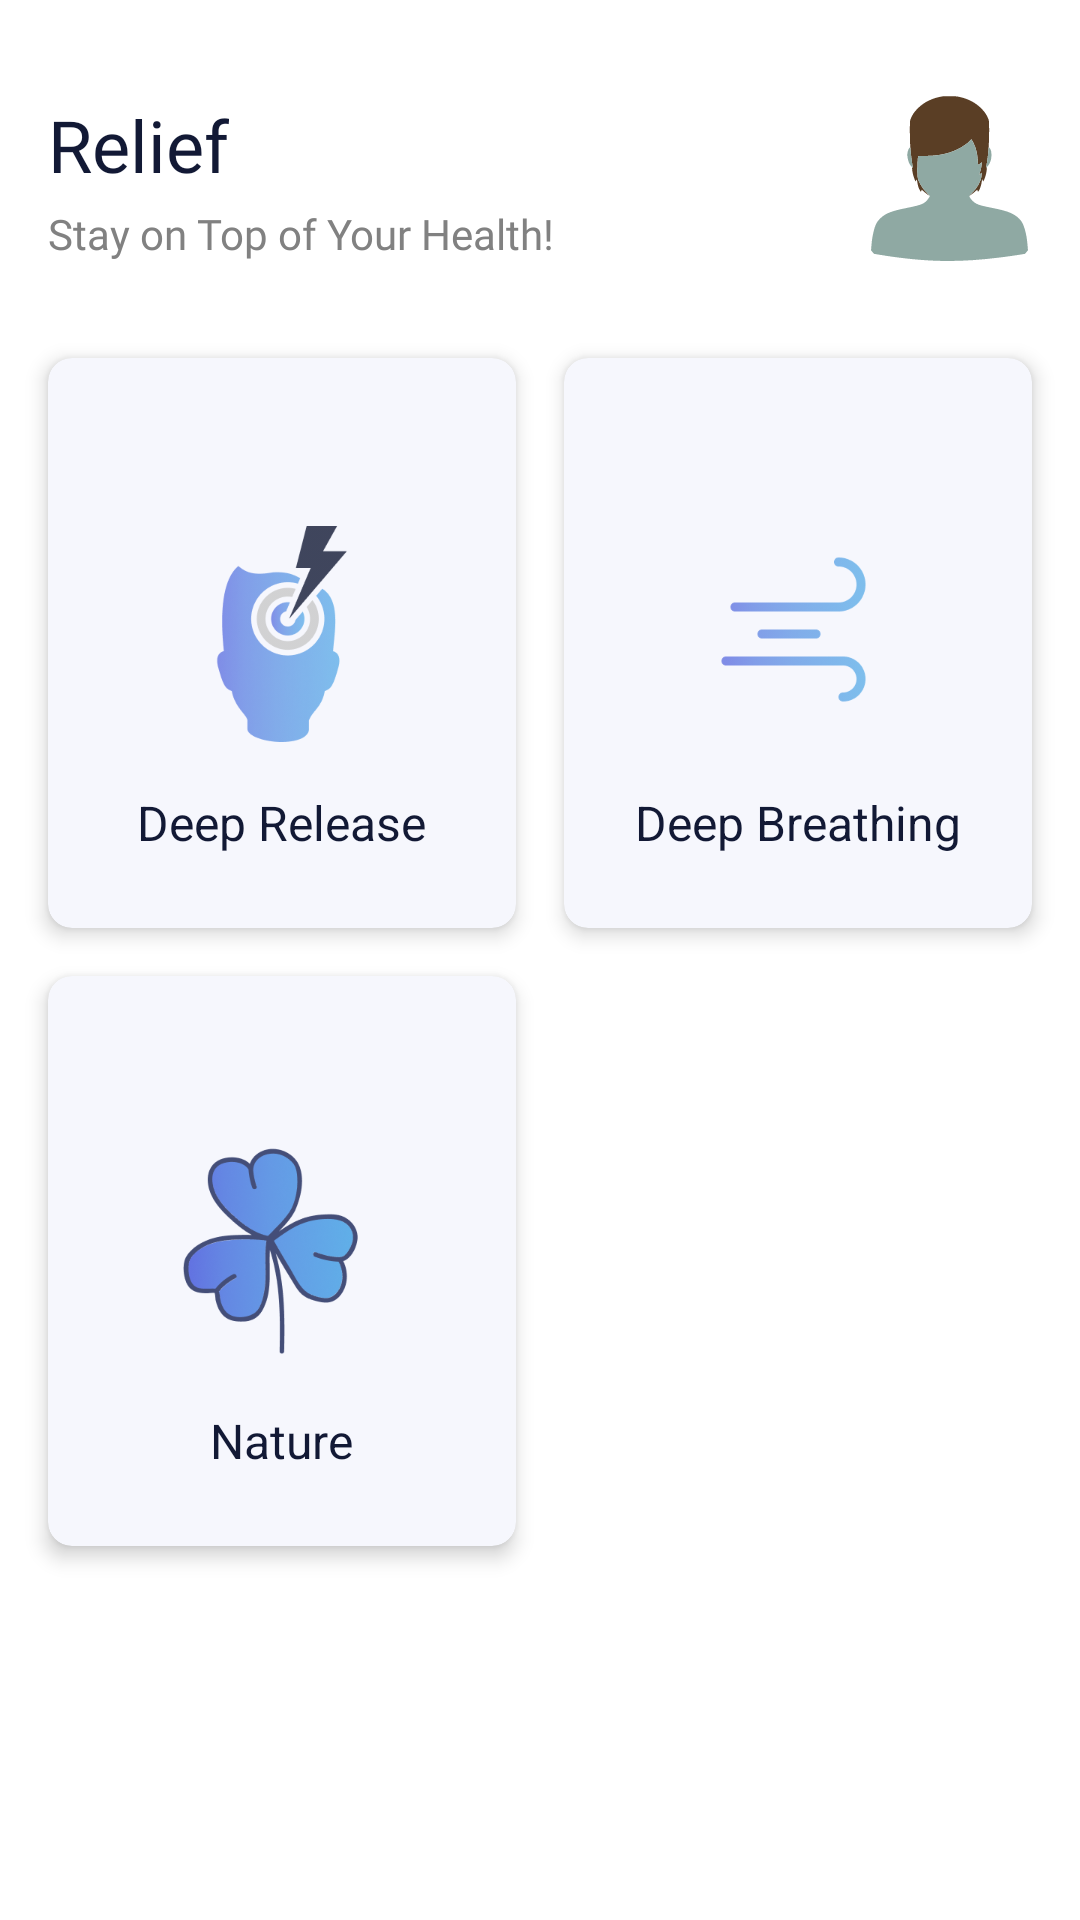

Icons on this 1080×1920 Android screen, each with the point to tap as (x=x, y=y):
air: (x=793, y=629)
headache: (x=282, y=634)
leaves: (x=270, y=1251)
